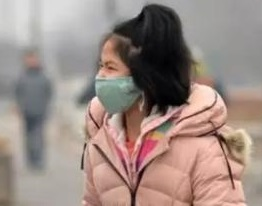person: (77, 2, 256, 206), (14, 45, 59, 176)
